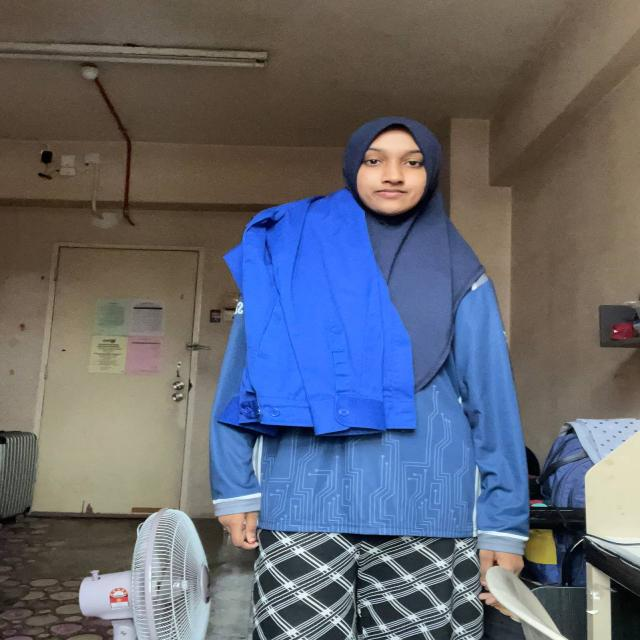person_without_labcoat: (210, 118, 528, 640)
